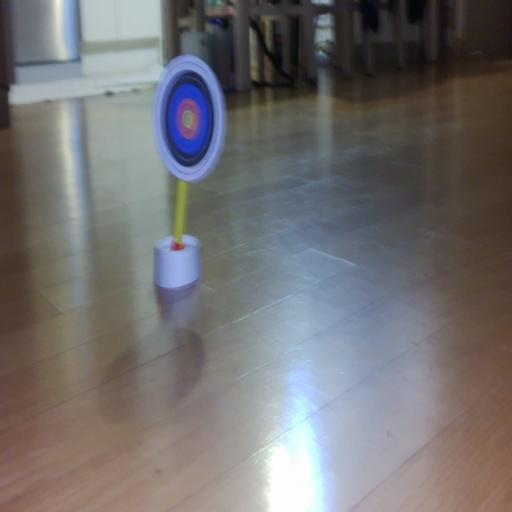target: (153, 55, 226, 182)
